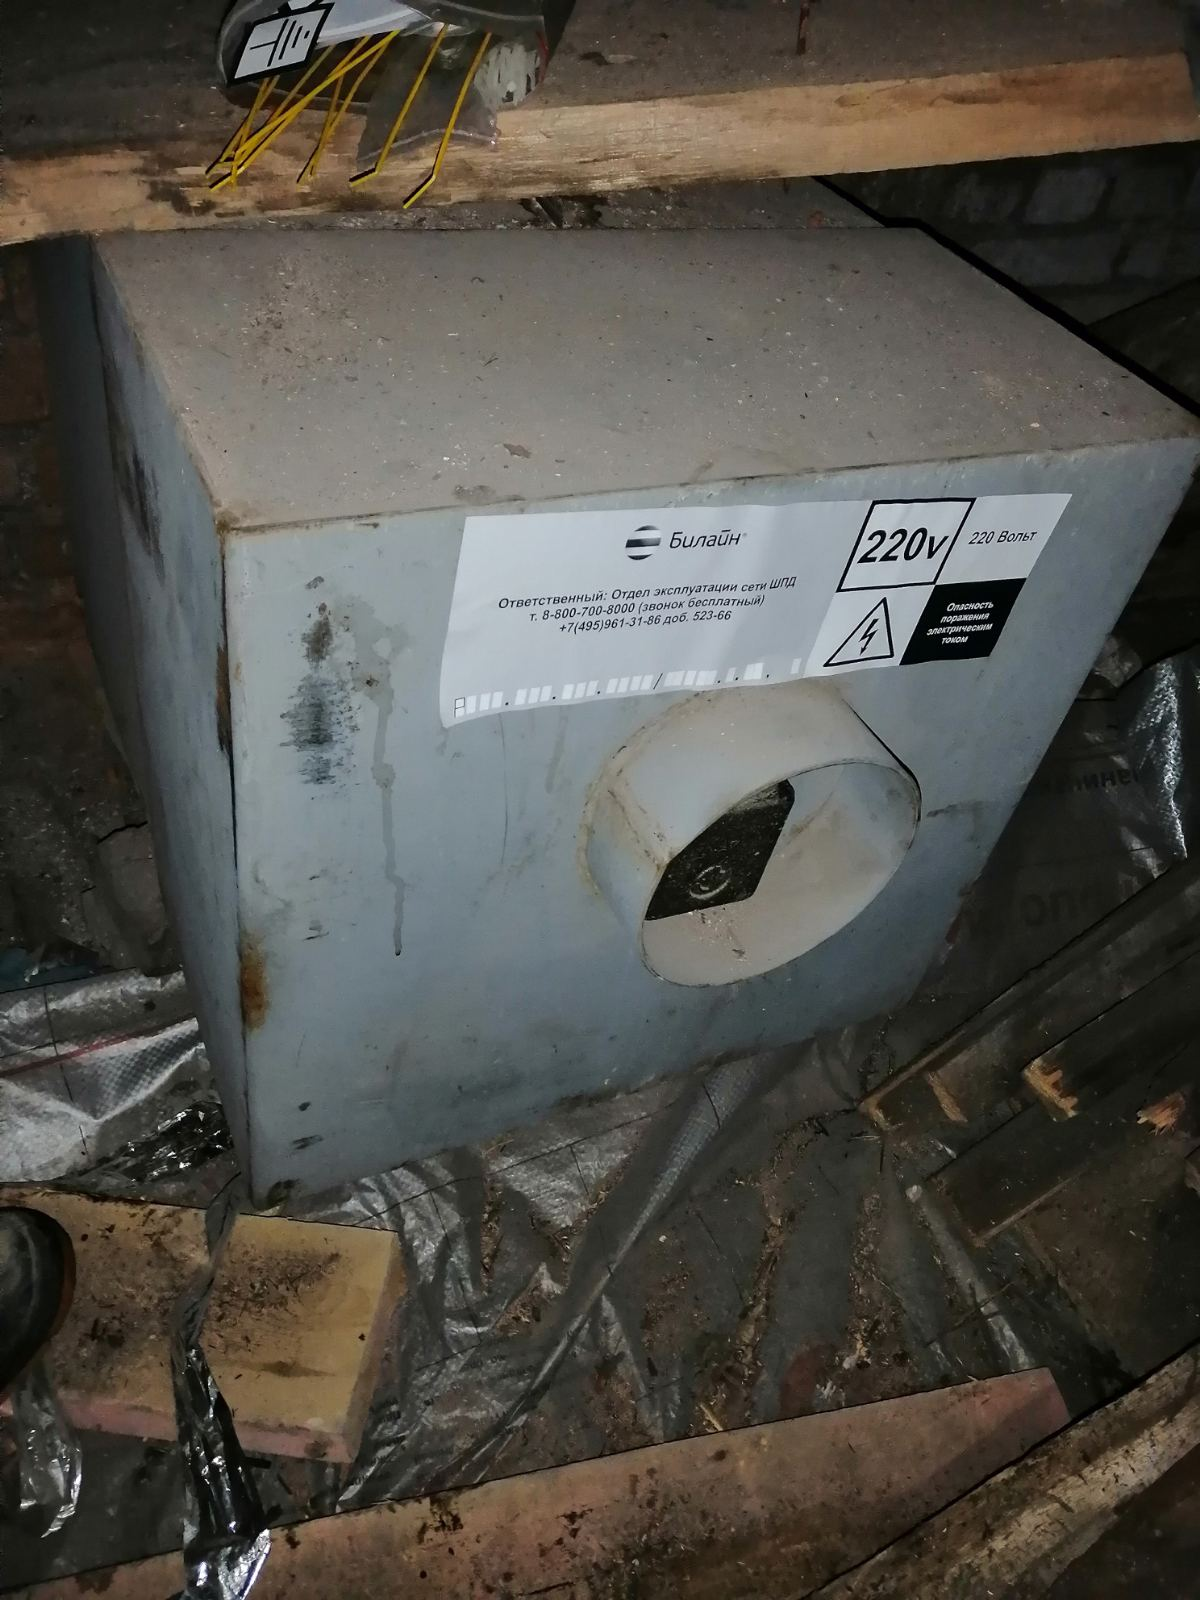shta-9: (64, 154, 1189, 1214)
